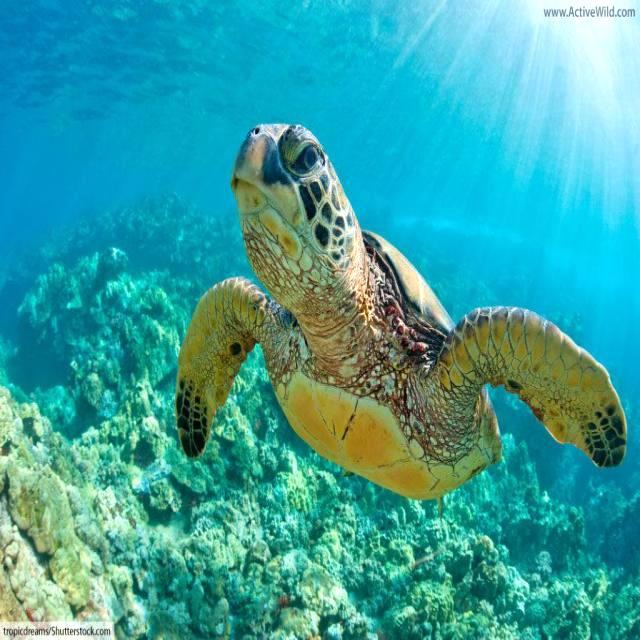Sea turtle: (170, 92, 631, 516)
